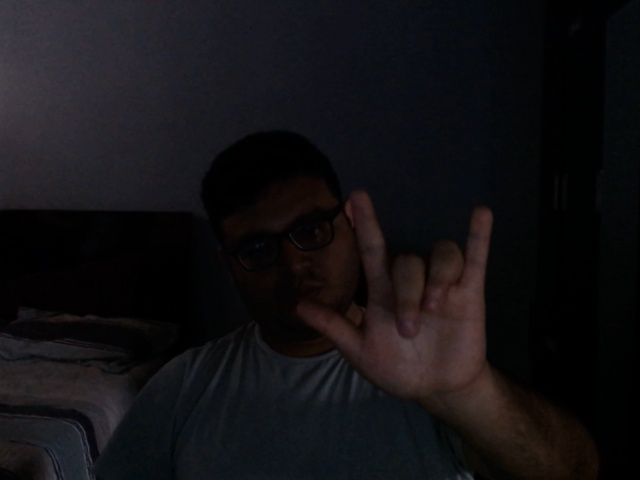I love you: (293, 189, 500, 407)
